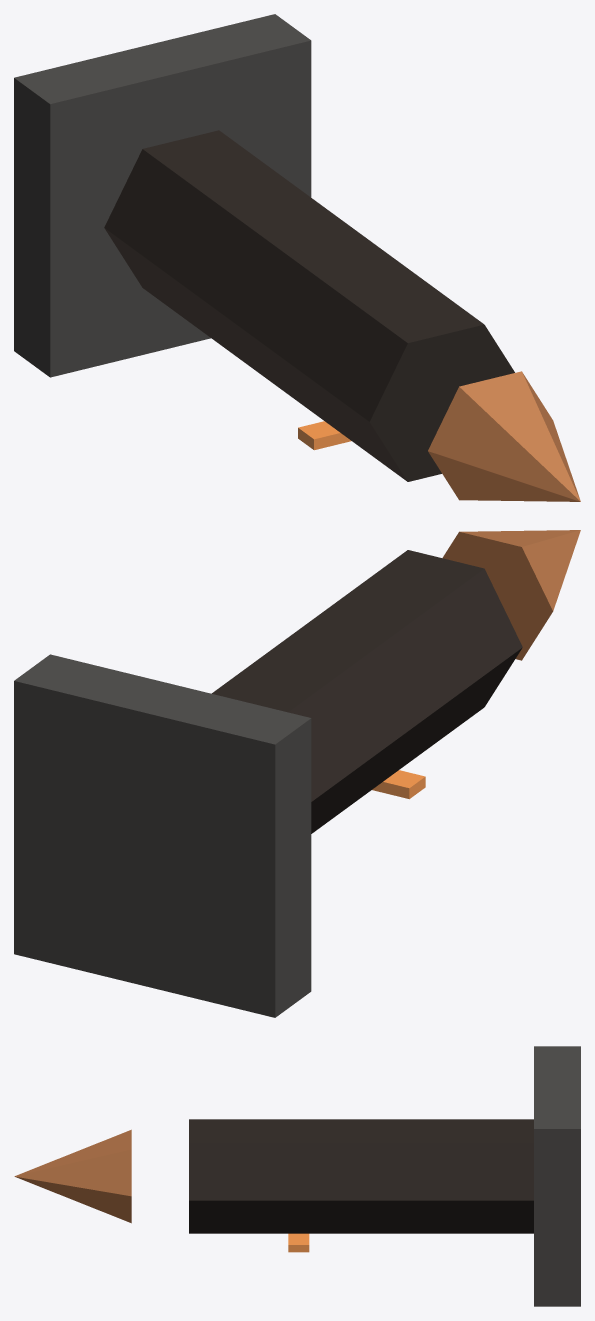
The model's file is volcanic_ash_totem.glb.
3 views of the same model, one above another, from view 1: azimuth 30°, elevation 25°; view 2: azimuth 150°, elevation 25°; view 3: azimuth 270°, elevation 25° (orthographic). The views are drawn at different scales.
Visible parts, largest first — view 1: totem, base, top_spike, rune; view 2: base, totem, top_spike, rune; view 3: totem, base, top_spike, rune.
Boxes of the visible parts, x1,y1,x2,y2 form: totem: (104, 130, 514, 481); base: (14, 14, 311, 377); top_spike: (428, 371, 580, 501); rune: (298, 421, 351, 450); base: (14, 654, 311, 1017); totem: (212, 550, 522, 833); top_spike: (442, 530, 580, 660); rune: (372, 770, 425, 799); totem: (189, 1119, 533, 1233); base: (534, 1046, 580, 1306); top_spike: (14, 1129, 131, 1223); rune: (288, 1233, 309, 1252).
Size of the model in its own units: 0.75 by 0.75 by 2.17.
